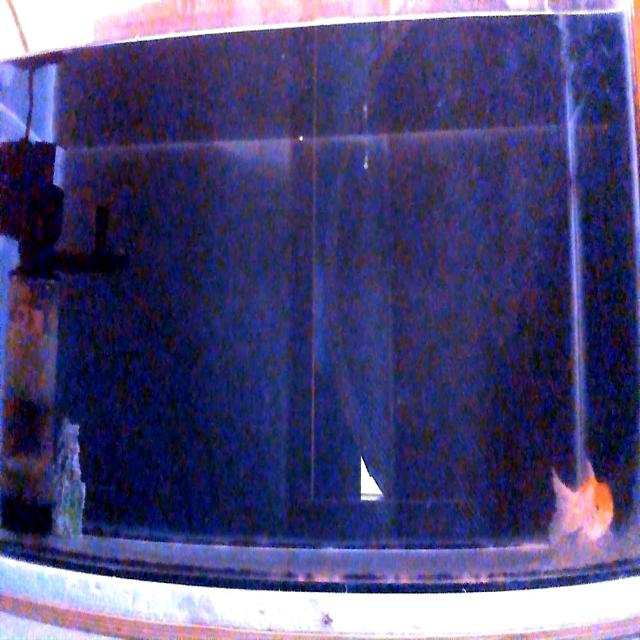fish: (548, 458, 616, 544)
